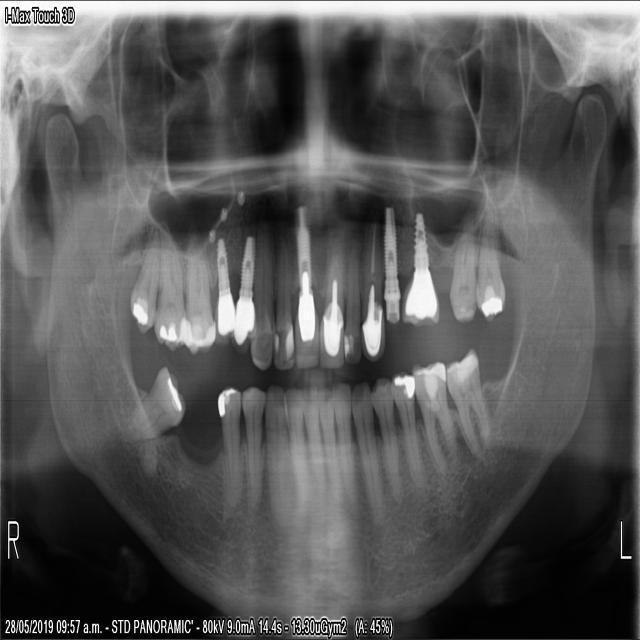LCD: (346, 371, 386, 523)
LCU: (358, 217, 386, 367)
LID: (329, 373, 358, 507), (314, 382, 341, 501)
LIU: (316, 212, 347, 376), (341, 221, 362, 372)
LMD: (409, 348, 461, 488), (439, 337, 494, 463)
LMU: (473, 193, 507, 324), (447, 205, 478, 331)
LPMD: (389, 362, 428, 498), (366, 370, 404, 505)
RCD: (260, 376, 295, 536)
RCU: (247, 215, 279, 373)
RID: (278, 376, 310, 510), (298, 376, 326, 504)
RIU: (289, 191, 320, 377), (270, 220, 295, 376)
RMD: (121, 354, 186, 448)
RMU: (150, 211, 186, 351), (179, 227, 216, 363), (123, 215, 159, 341)
RPMD: (211, 377, 243, 511), (237, 379, 268, 504)
